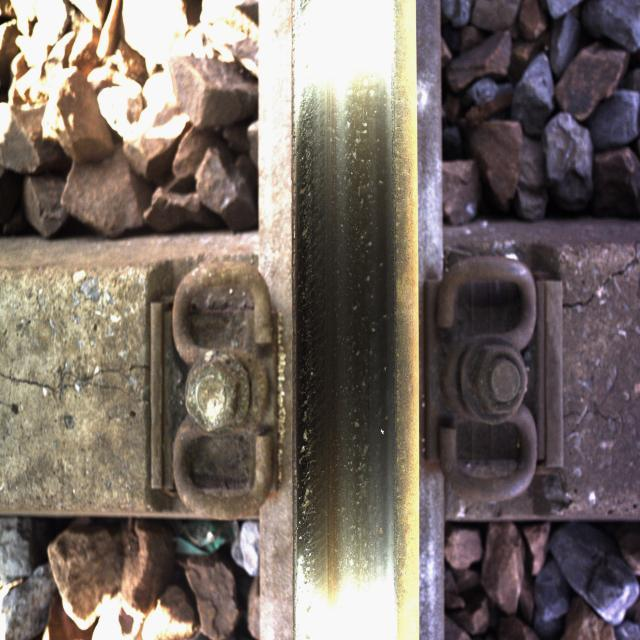normal: (298, 55, 407, 609)
